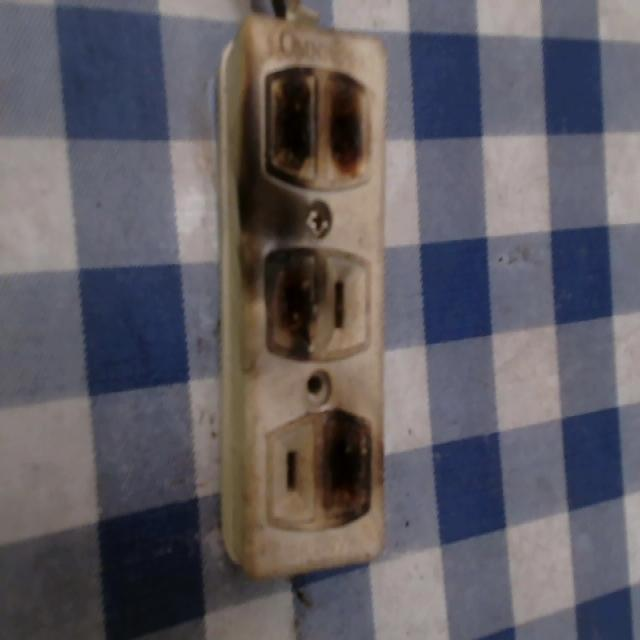-: (252, 56, 380, 201), (257, 236, 321, 363), (318, 407, 382, 529)
